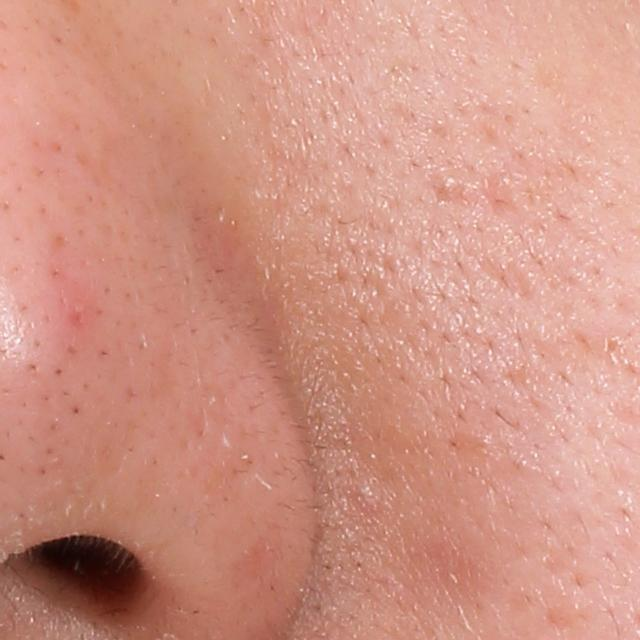atrophic_scar: (520, 326, 576, 376), (476, 254, 538, 299)
